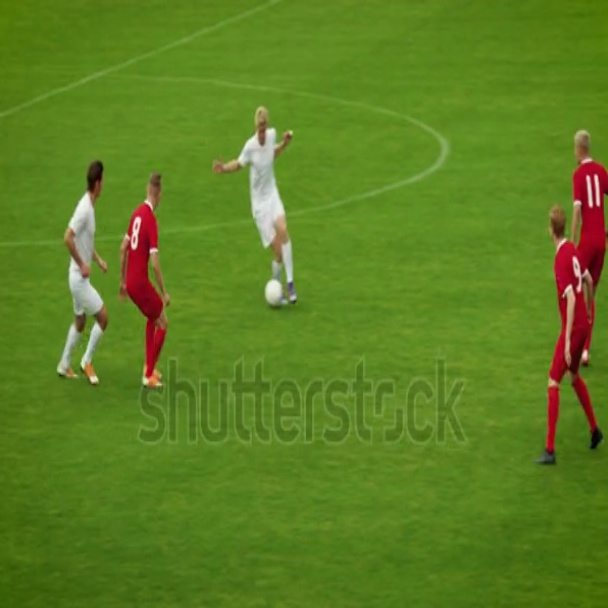ball: (267, 276, 285, 312)
